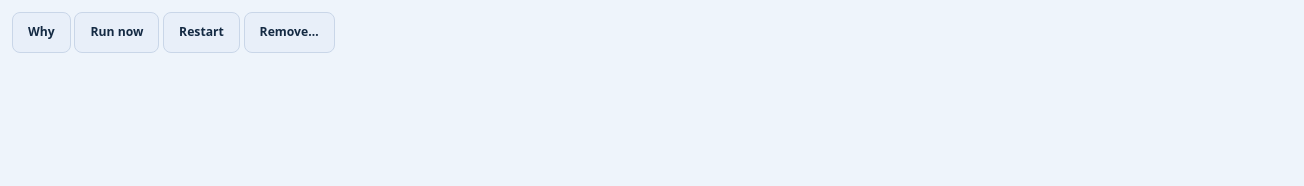
removes only after the label is typed, and sends that label
Click the button "Remove…": {"x": 289, "y": 33} [244,12,335,53]
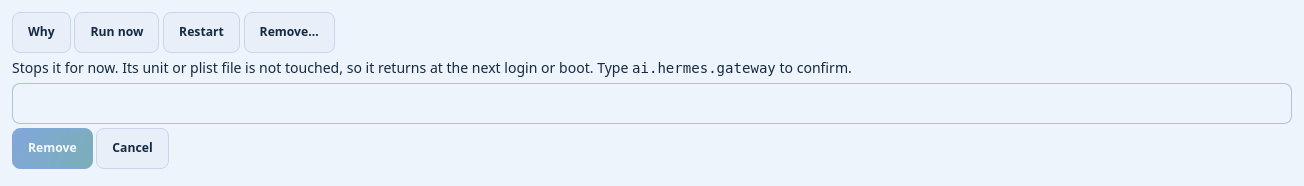
expect the button "Remove" is disabled: met, box [12,128,93,169]
In the field named "Type the service label": {"x": 652, "y": 103} [12,83,1292,124], type "wrong"
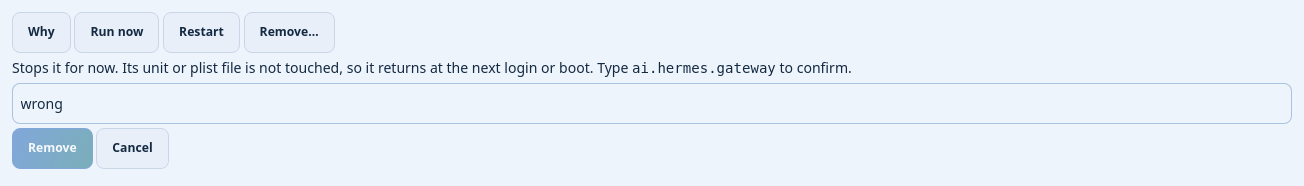
expect the button "Remove" is disabled: met, box [12,128,93,169]
Replace the text in the field named "Type the service label" with "ai.hermes.gateway": {"x": 652, "y": 103} [12,83,1292,124]
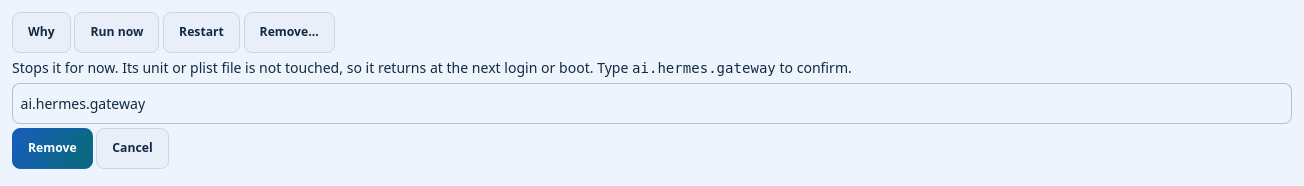
Click the button "Remove": {"x": 52, "y": 148} [12,128,93,169]
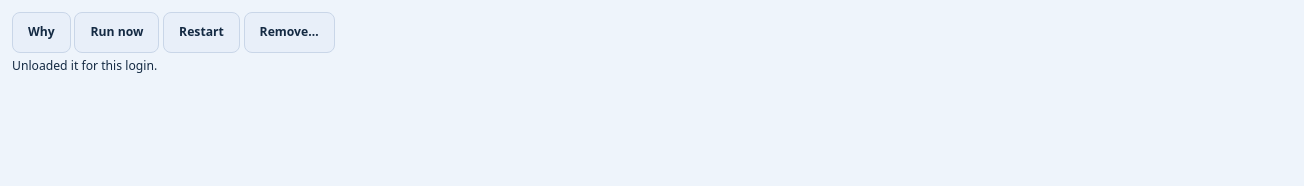
expect the text "Unloaded it for this login." is shown: met, box [12,57,157,74]
